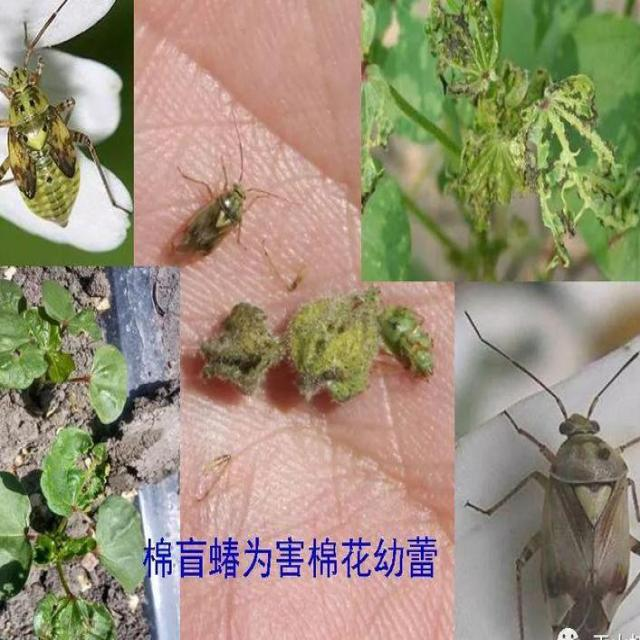Miridae-Adult-: (463, 304, 639, 631), (178, 100, 286, 264)
